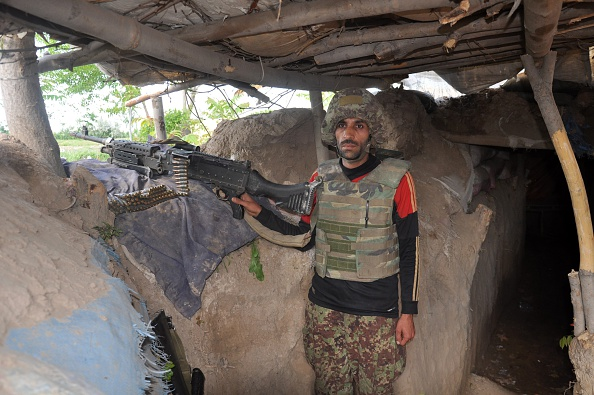em pe: (257, 91, 433, 395)
